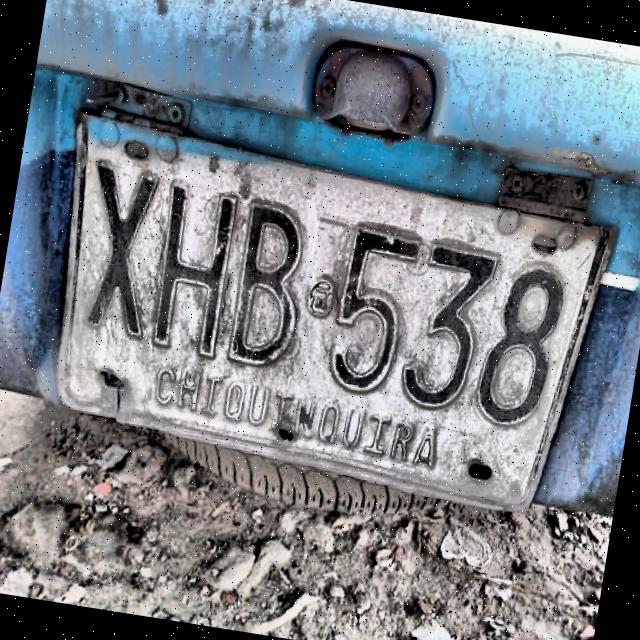3: (395, 238, 503, 421)
5: (326, 223, 426, 404)
8: (466, 256, 577, 439)
B: (222, 196, 318, 378)
H: (147, 176, 241, 364)
X: (78, 152, 164, 344)
